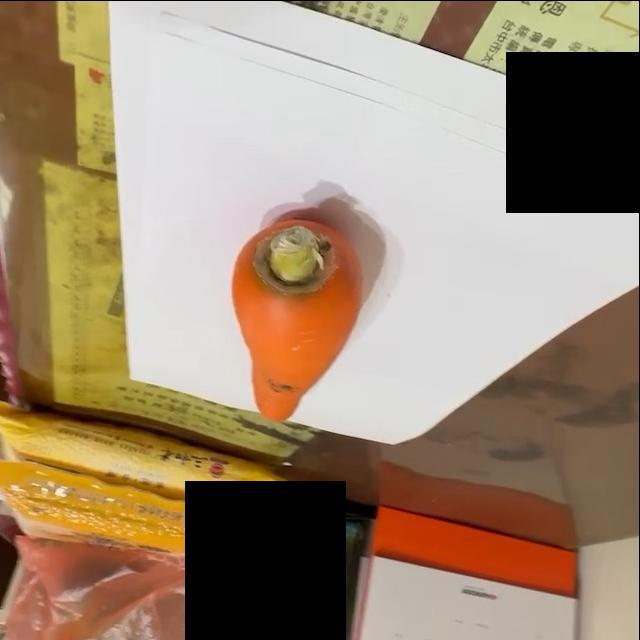carrot: (224, 212, 367, 426)
